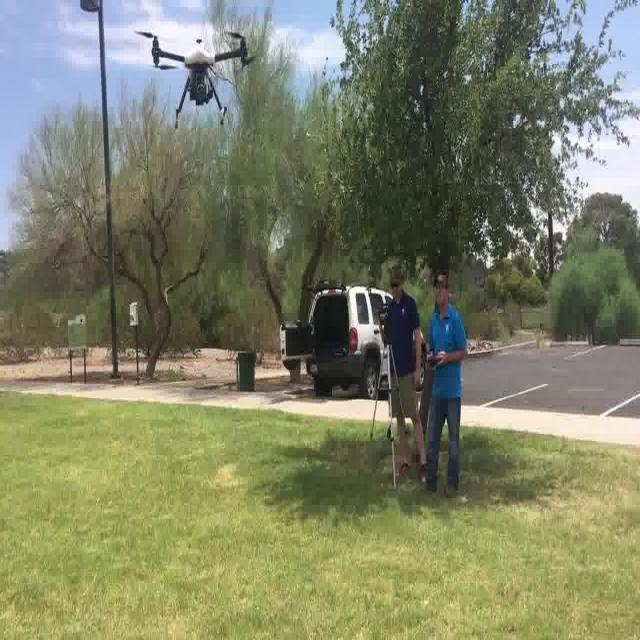drone: (135, 27, 261, 131)
